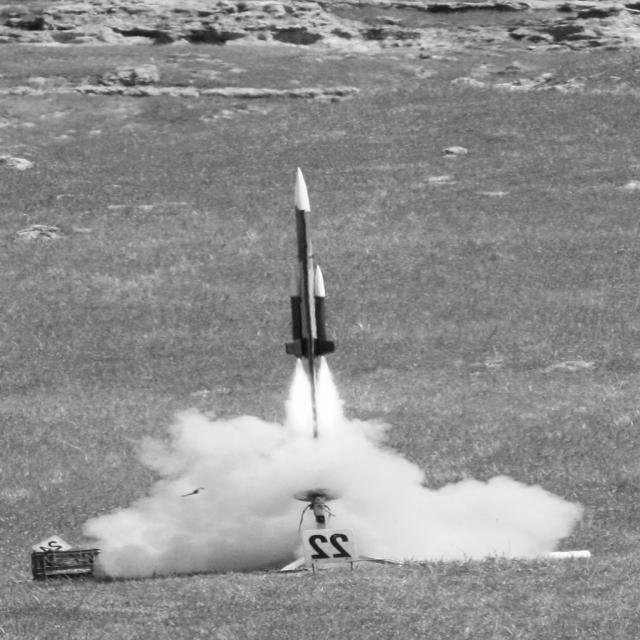missile: (290, 152, 321, 380), (312, 258, 339, 360), (283, 268, 305, 360)
